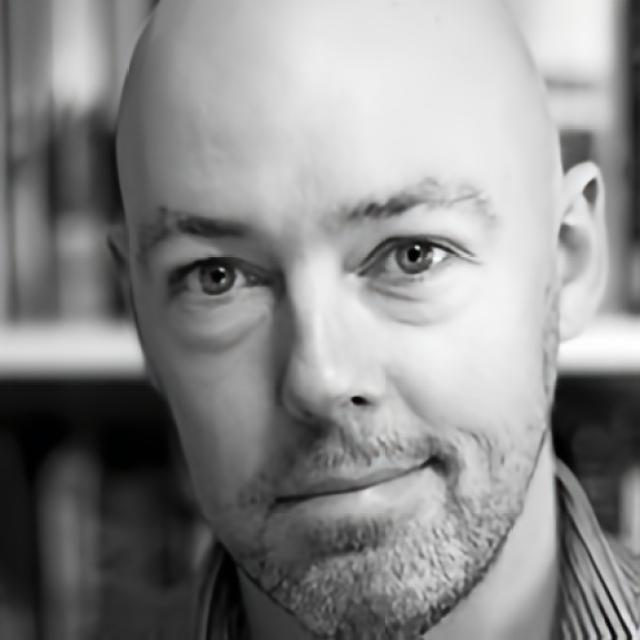content: (112, 0, 552, 640)
